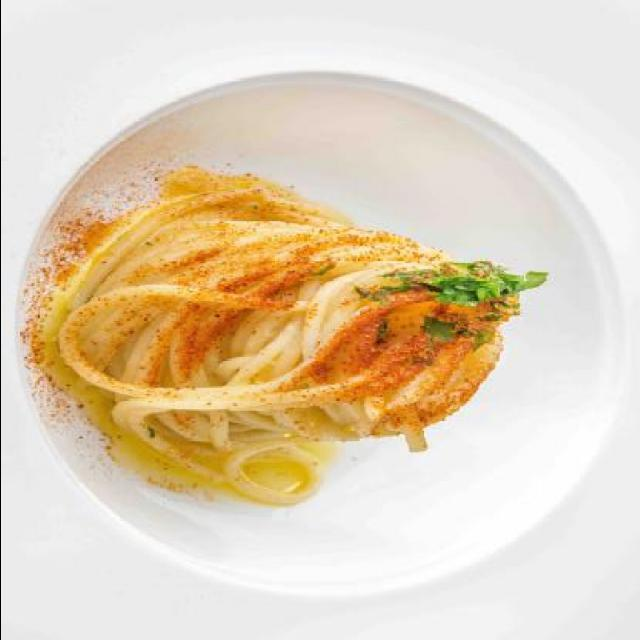Oil pasta: (28, 147, 580, 585)
